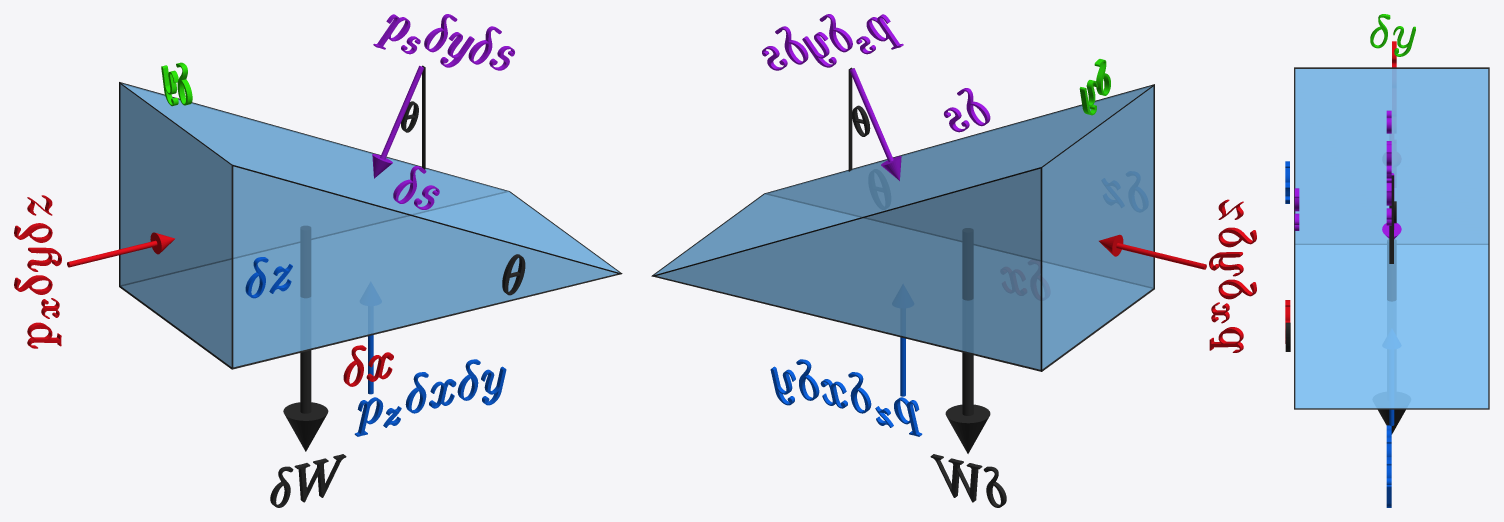
The model's file is pascal.glb.
The picture shows the model from 3 angles, left to right: view 1: azimuth 30°, elevation 25°; view 2: azimuth 150°, elevation 25°; view 3: azimuth 270°, elevation 25°; orthographic projection. The views are drawn at different scales.
Visible parts, largest first — view 1: Cube, Cube.002, W_arrow_Cylinder, Curve.012_Curve.028, Curve.005_Curve.016, Curve.003_Curve.010, Curve.001_Curve.006, Curve.002_Curve.005, Ps_arrow_Cylinder.002, Curve_Curve.002, Ps_arrow.001_Cylinder.003, Curve.004_Curve.009 (+1 smaller); view 2: Cube, Cube.002, W_arrow_Cylinder, Curve.012_Curve.028, Curve.005_Curve.016, Curve.003_Curve.010, Curve.001_Curve.006, Ps_arrow_Cylinder.002, Curve.002_Curve.005, Ps_arrow.001_Cylinder.003, Curve.007_Curve; view 3: Cube, Cube.002, W_arrow_Cylinder, Curve.002_Curve.005, Curve.005_Curve.016, Curve.012_Curve.028, Cube.001, Curve.007_Curve.
Boxes of the visible parts, left/top/right/bottom form: Cube: left=120, top=83, right=619, bottom=367; Cube.002: left=119, top=82, right=622, bottom=369; W_arrow_Cylinder: left=283, top=226, right=328, bottom=451; Curve.012_Curve.028: left=354, top=359, right=506, bottom=436; Curve.005_Curve.016: left=373, top=14, right=514, bottom=70; Curve.003_Curve.010: left=14, top=195, right=61, bottom=348; Curve.001_Curve.006: left=270, top=454, right=346, bottom=507; Curve.002_Curve.005: left=161, top=62, right=192, bottom=106; Ps_arrow_Cylinder.002: left=372, top=65, right=424, bottom=178; Curve_Curve.002: left=343, top=345, right=393, bottom=386; Ps_arrow.001_Cylinder.003: left=67, top=232, right=174, bottom=267; Curve.004_Curve.009: left=245, top=257, right=292, bottom=298; Cube: left=654, top=86, right=1153, bottom=369; Cube.002: left=651, top=84, right=1154, bottom=371; W_arrow_Cylinder: left=945, top=228, right=990, bottom=453; Curve.012_Curve.028: left=770, top=359, right=922, bottom=436; Curve.005_Curve.016: left=762, top=14, right=903, bottom=70; Curve.003_Curve.010: left=1209, top=199, right=1256, bottom=352; Curve.001_Curve.006: left=930, top=454, right=1006, bottom=507; Ps_arrow_Cylinder.002: left=849, top=68, right=901, bottom=180; Curve.002_Curve.005: left=1079, top=59, right=1110, bottom=115; Ps_arrow.001_Cylinder.003: left=1099, top=234, right=1206, bottom=269; Curve.007_Curve: left=944, top=88, right=990, bottom=132; Cube: left=1295, top=69, right=1488, bottom=408; Cube.002: left=1294, top=67, right=1489, bottom=409; W_arrow_Cylinder: left=1378, top=239, right=1405, bottom=434; Curve.002_Curve.005: left=1370, top=14, right=1415, bottom=56; Curve.005_Curve.016: left=1386, top=110, right=1391, bottom=225; Curve.012_Curve.028: left=1386, top=425, right=1391, bottom=507; Cube.001: left=1389, top=175, right=1393, bottom=263; Curve.007_Curve: left=1294, top=188, right=1299, bottom=230.
Size of the model in its own units: 5.64 by 4.61 by 2.1.
